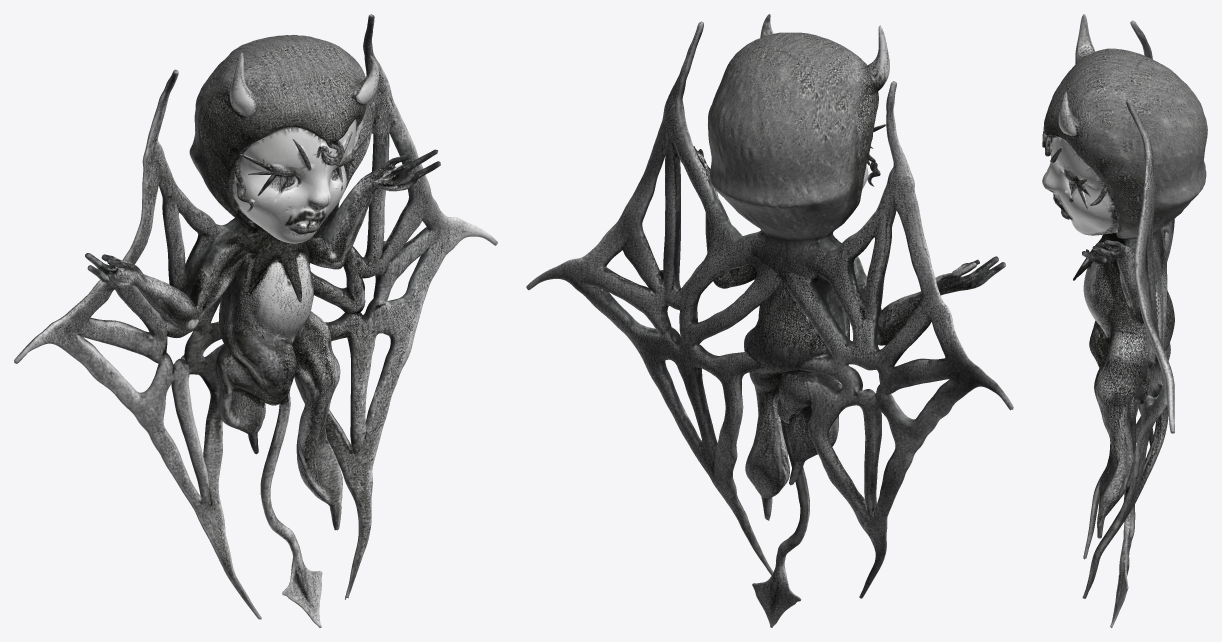
File: demongirlweb.glb
3 renders of one model, left to right at view 1: azimuth 30°, elevation 25°; view 2: azimuth 150°, elevation 25°; view 3: azimuth 270°, elevation 25°, orthographic. The views are drawn at different scales.
Visible parts, largest first — view 1: demon girl 3d model; view 2: demon girl 3d model; view 3: demon girl 3d model.
Boxes of the visible parts, x1,y1,x2,y2 form: demon girl 3d model: [14, 14, 497, 627]; demon girl 3d model: [526, 14, 1013, 627]; demon girl 3d model: [1042, 14, 1207, 627].
Bounding box in the file's own units: 0.7949 × 0.958 × 0.2519.
1 material, 1 textured.
